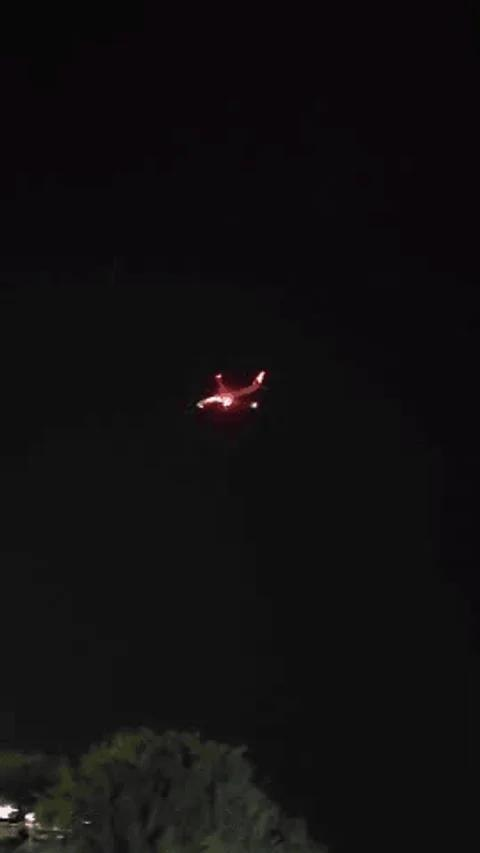Plane: (167, 336, 294, 465)
